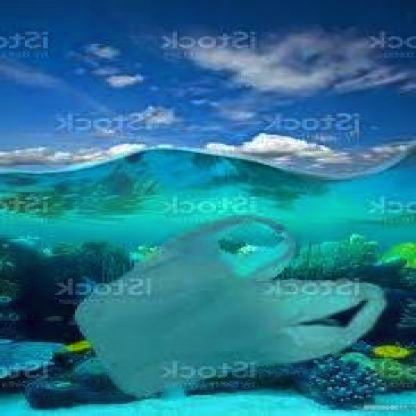pbag: (70, 214, 386, 400)
